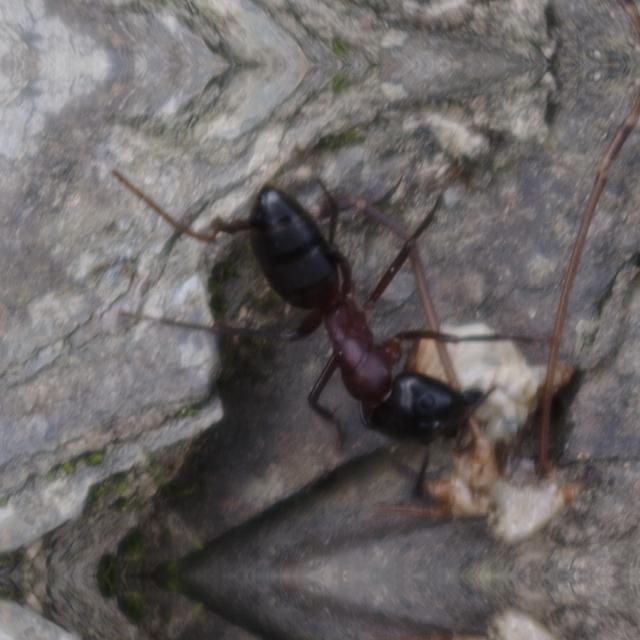Camponotus: (176, 144, 520, 482)
